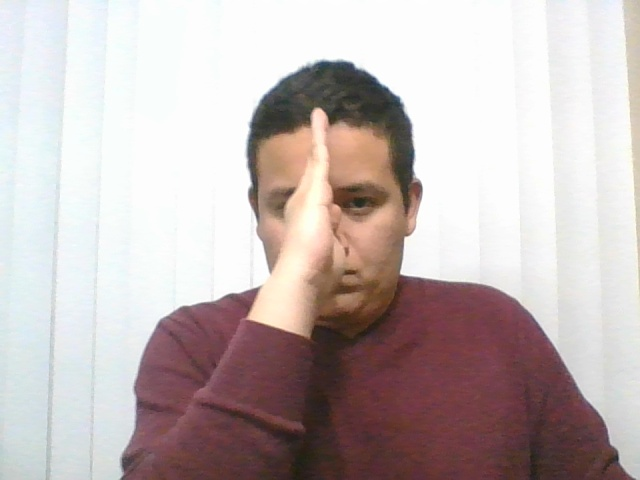God: (201, 96, 408, 330)
